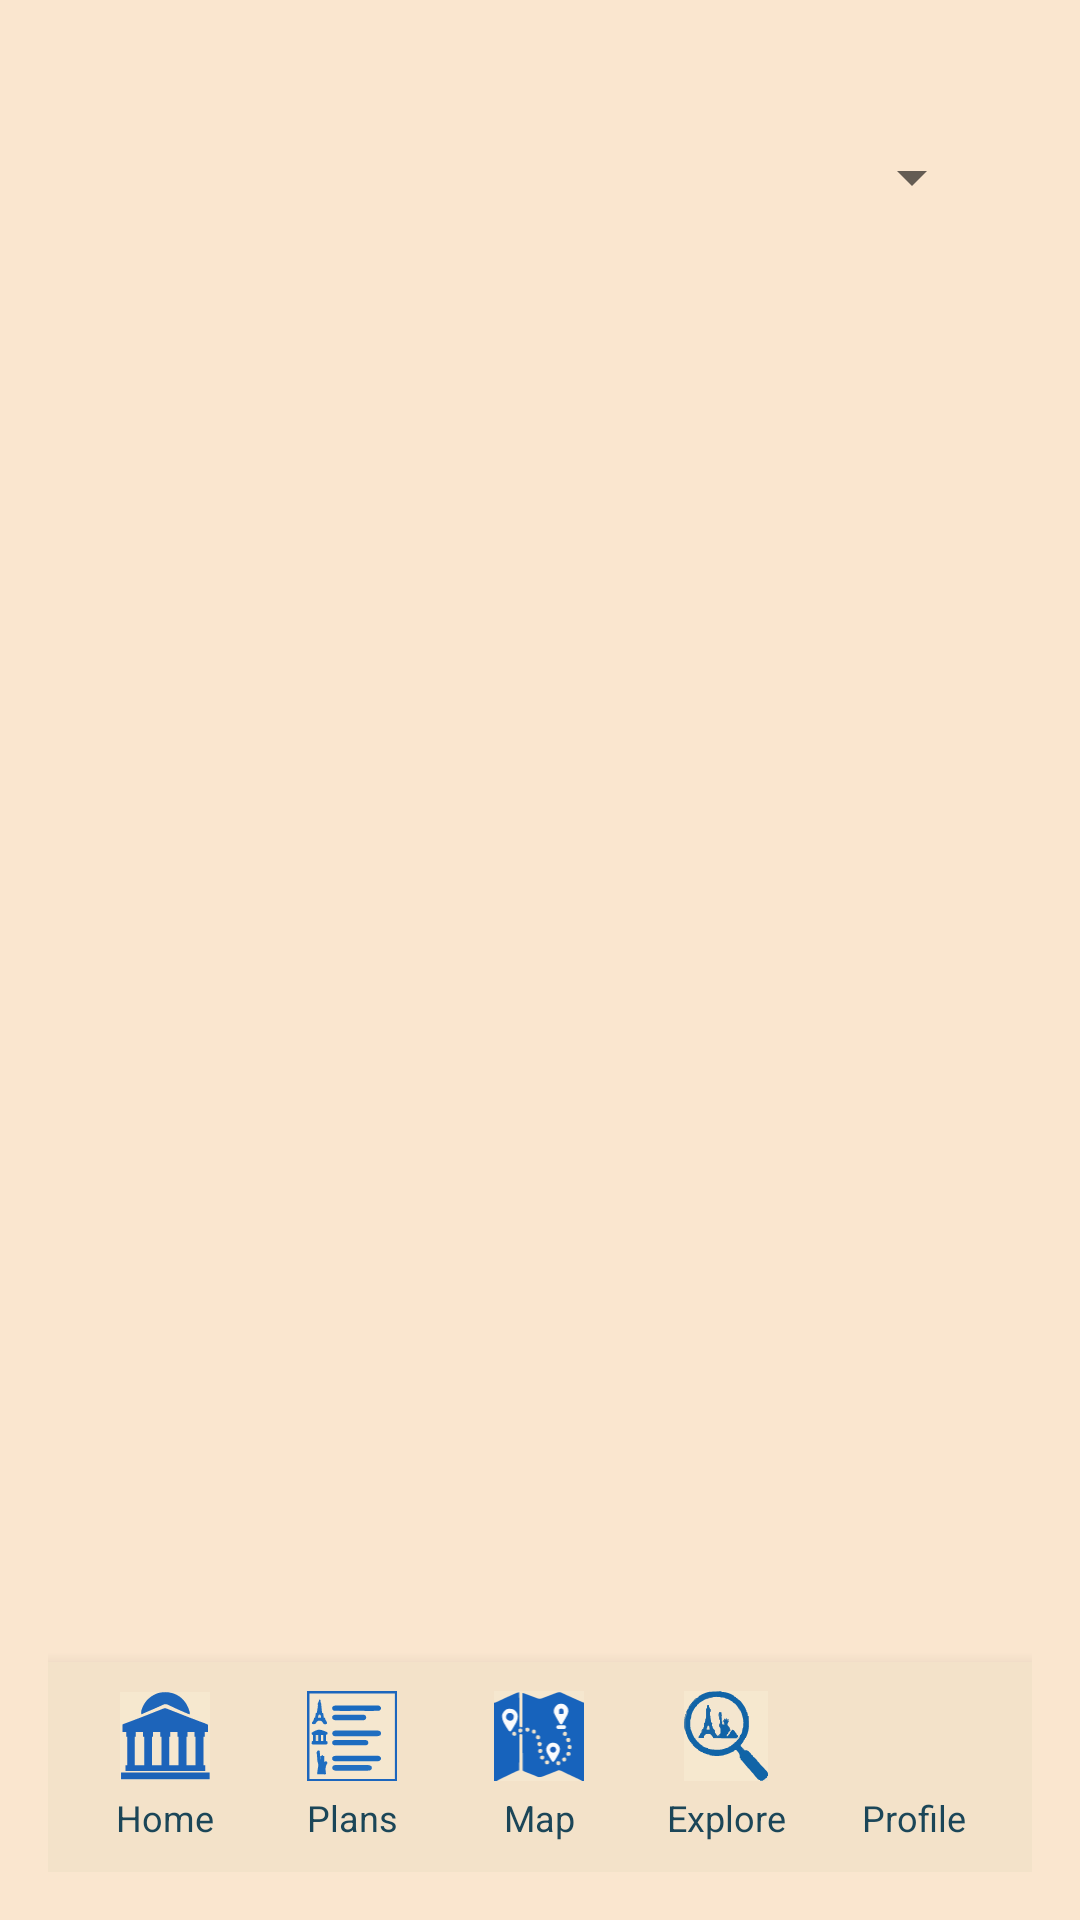

Screen size 1080x1920. Icon name, then its box in pixels as box=[x1, y1, x2, y2]:
search: box=[684, 1691, 768, 1781]
